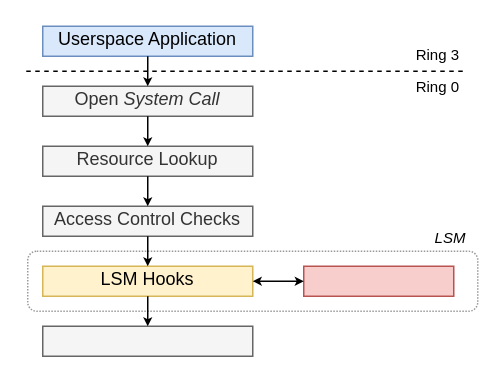
Image size: 504x383. Some labels were removed from this diagram. Each missing label, with the centre of its shape:
Resource Access: point 147,340
Security Model: point 378,280
